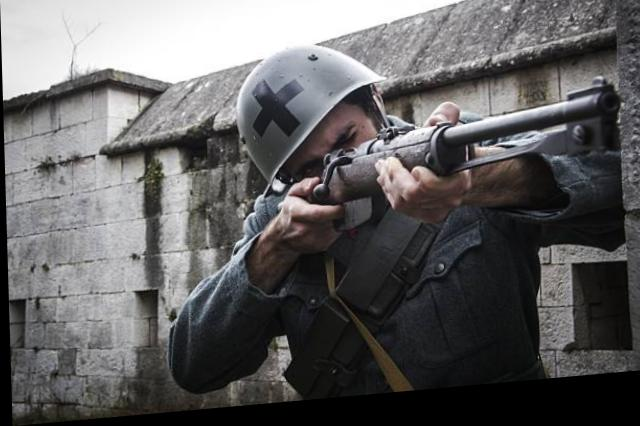other: (213, 49, 513, 403)
